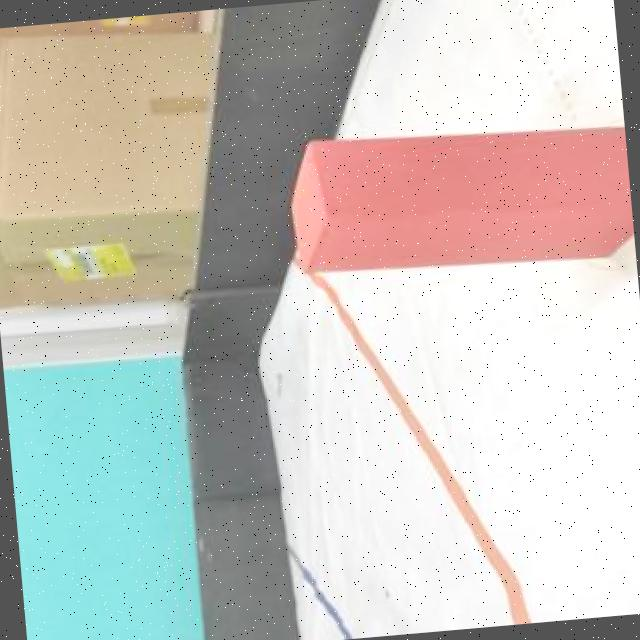redbox: (282, 114, 635, 282)
